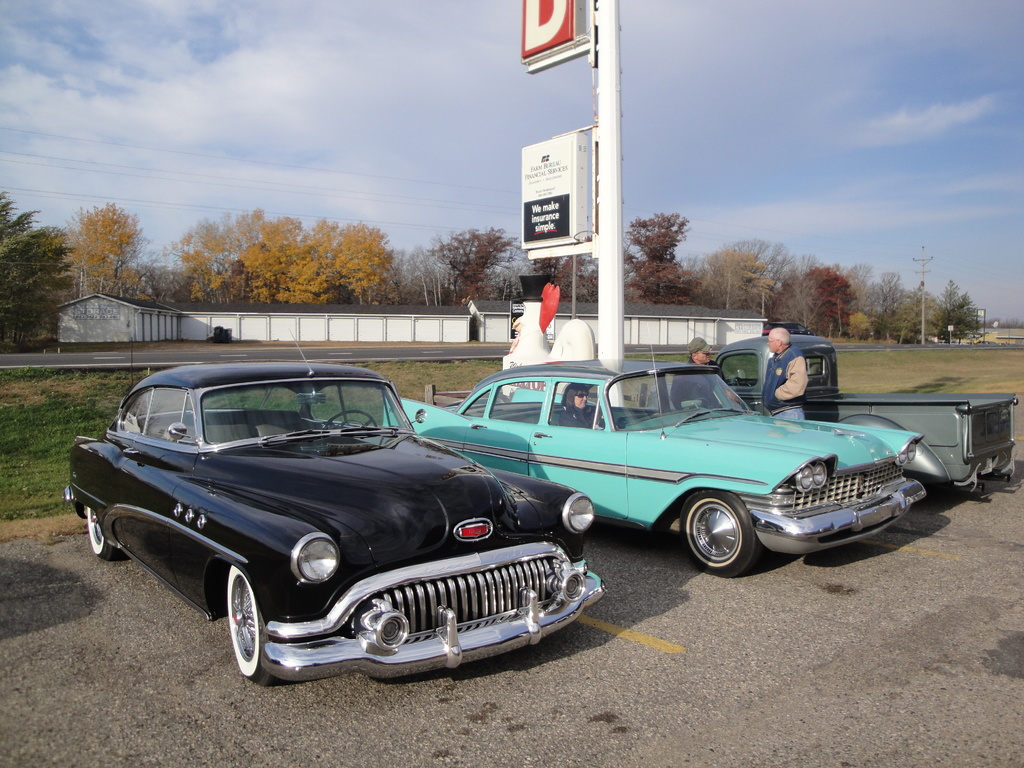cars: (64, 328, 596, 679)
